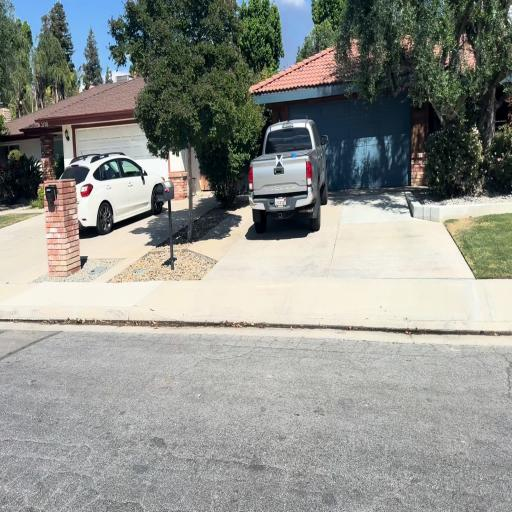target1: (276, 154, 282, 167)
